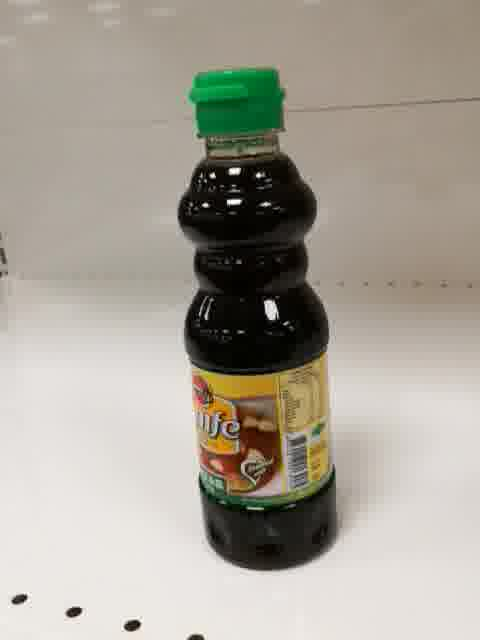cookingoil: (172, 62, 341, 573)
